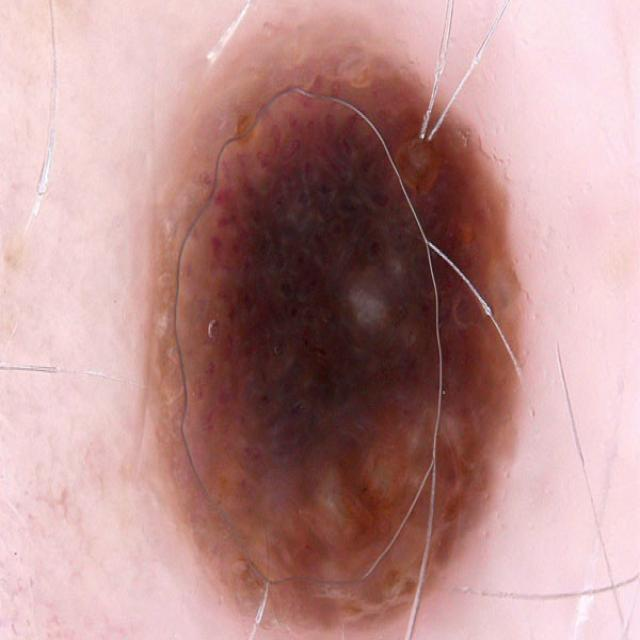Skin-Cancer Pigmented benign keratosis: (108, 22, 617, 640)
